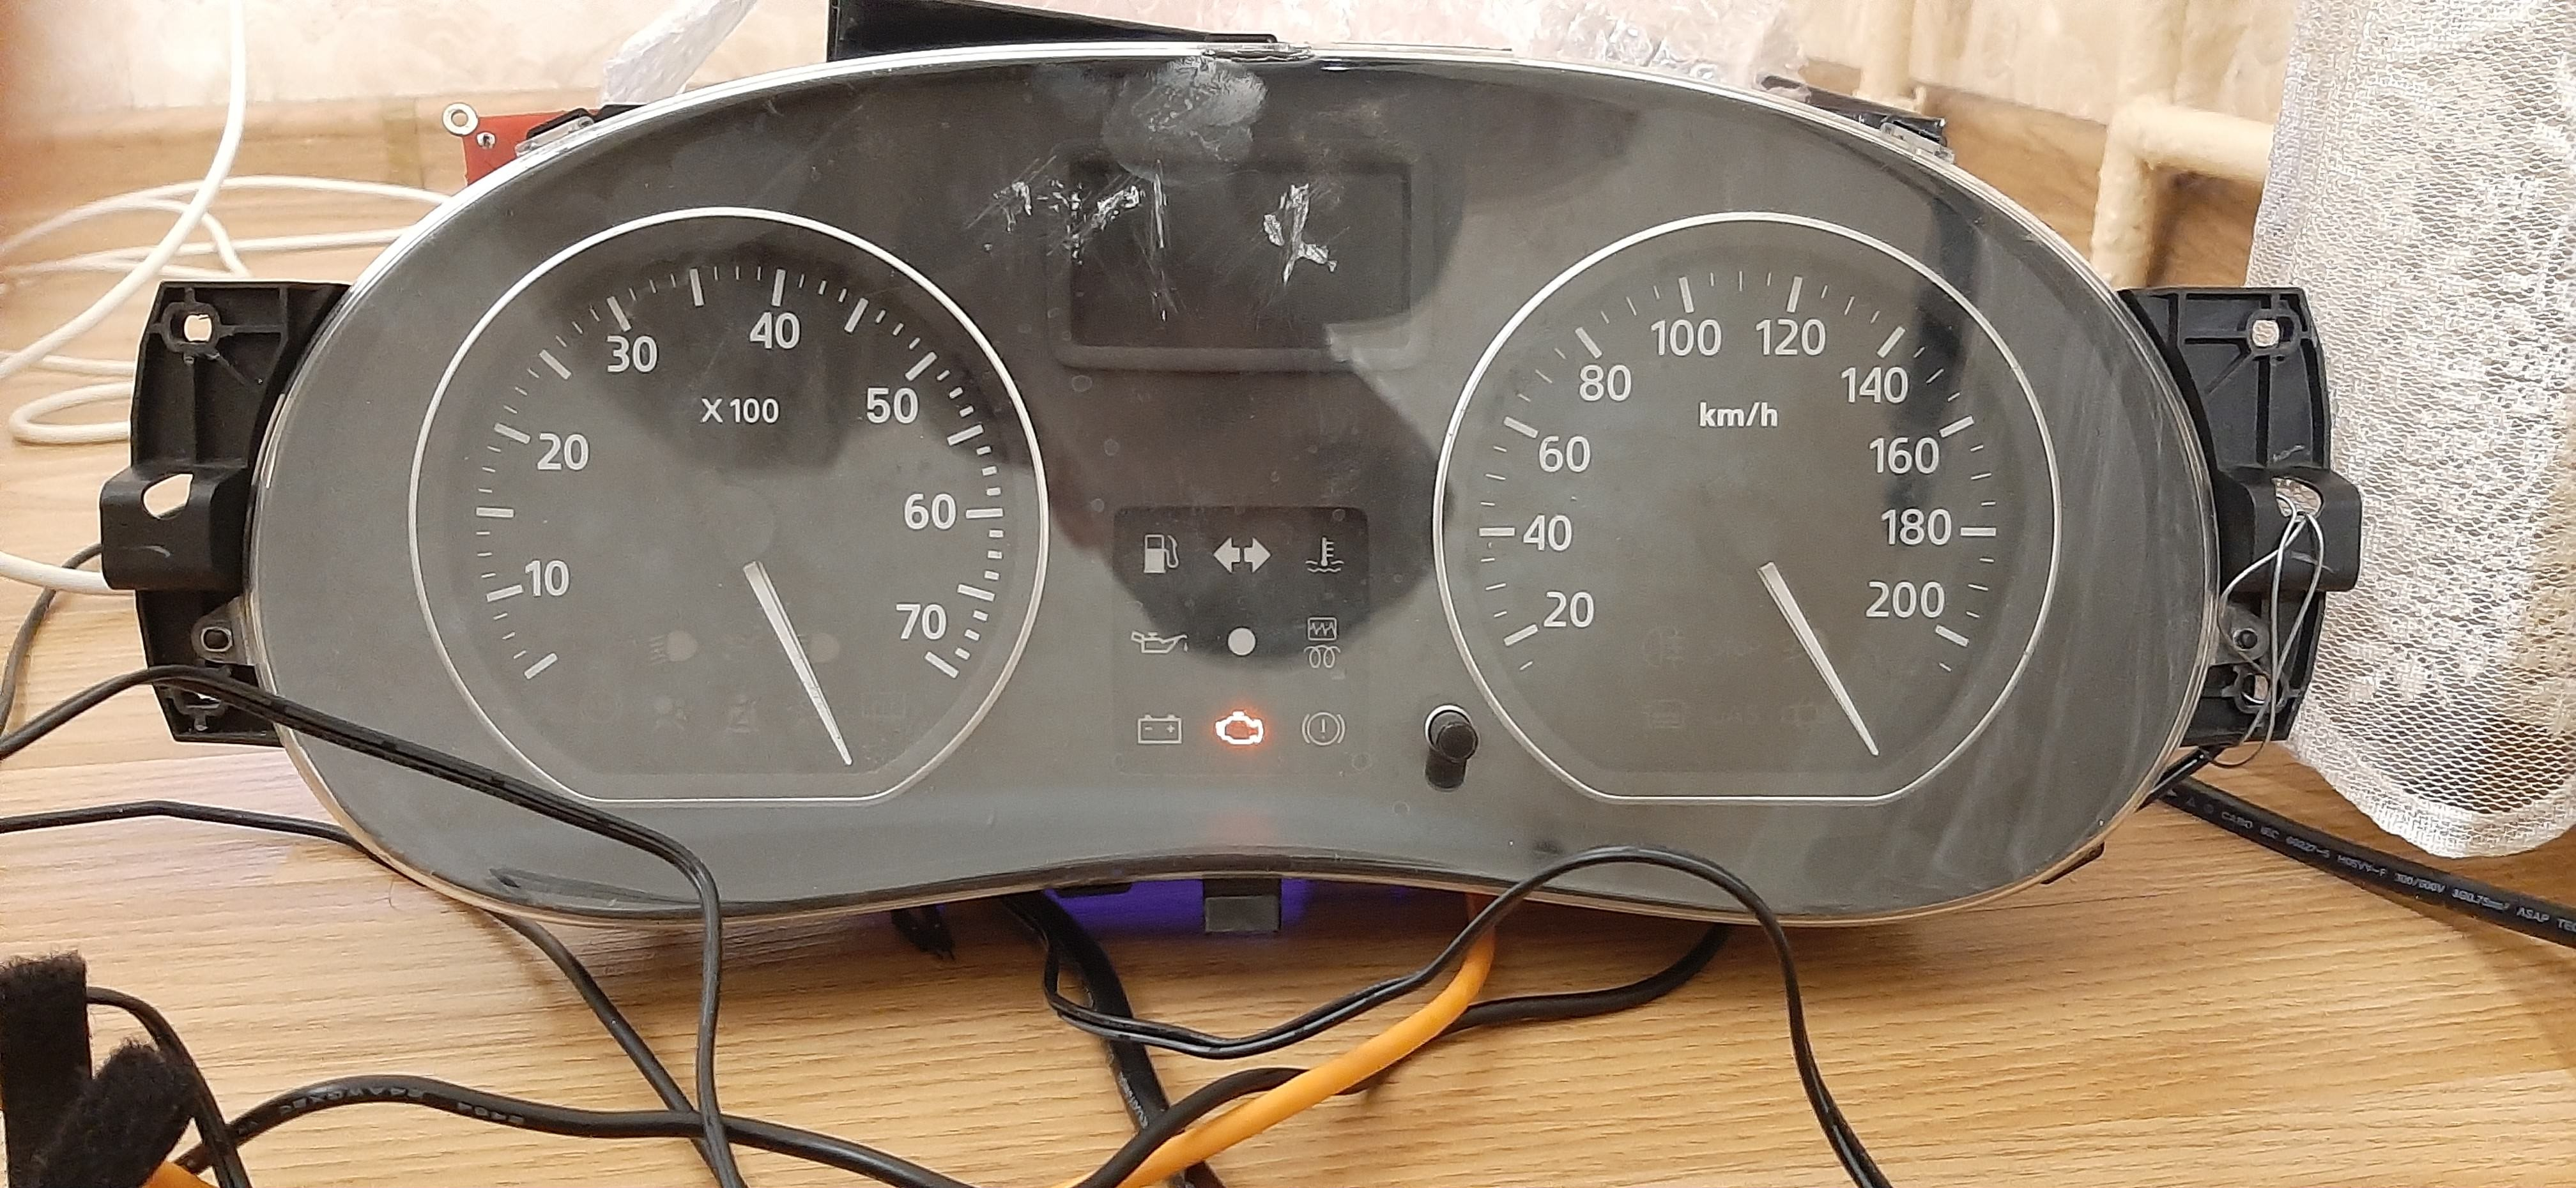engine1: (1212, 708, 1267, 746)
